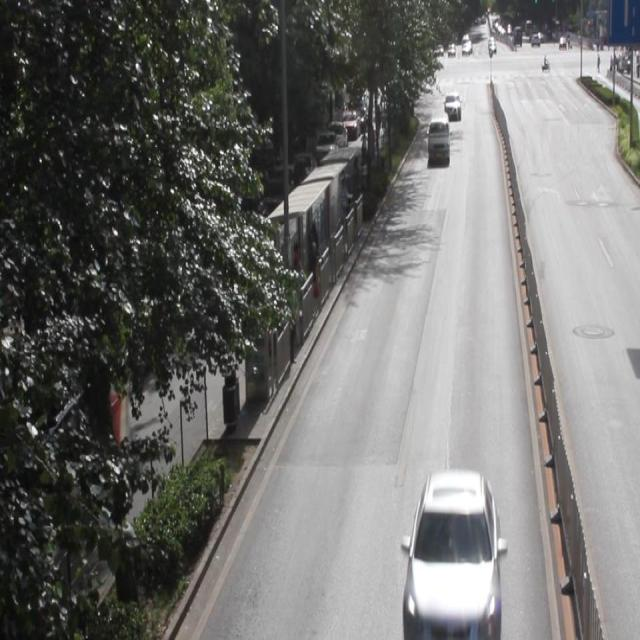car: (402, 467, 496, 640)
truck: (427, 110, 448, 162)
